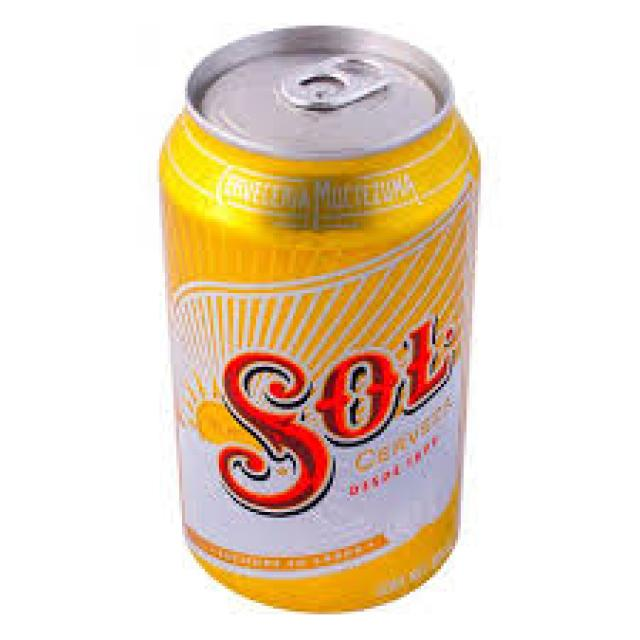Lata: (159, 31, 469, 611)
